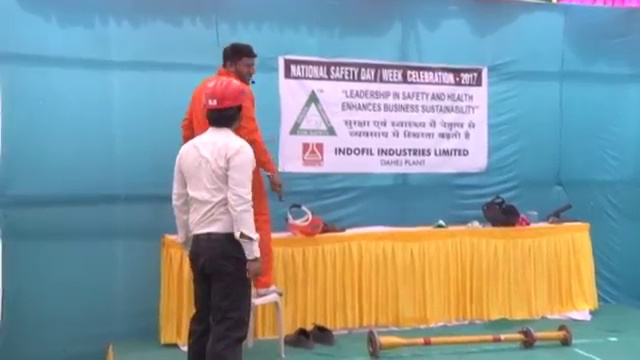helmet: (200, 77, 244, 113)
helmet_off: (219, 43, 258, 86)
helmet_on: (201, 77, 244, 132)
person: (186, 44, 285, 292), (175, 76, 261, 360)
